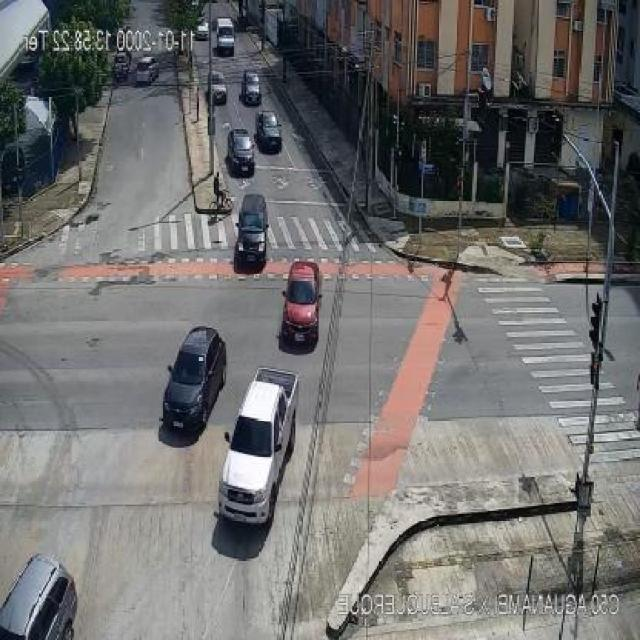Car: (218, 369, 300, 526), (160, 327, 226, 435), (1, 554, 78, 638), (282, 254, 334, 349), (233, 194, 270, 268), (227, 128, 256, 176), (255, 111, 282, 153), (240, 70, 262, 105), (208, 72, 228, 105), (196, 18, 210, 41)
Cycle: (203, 174, 234, 215)
Van: (215, 18, 235, 55)
